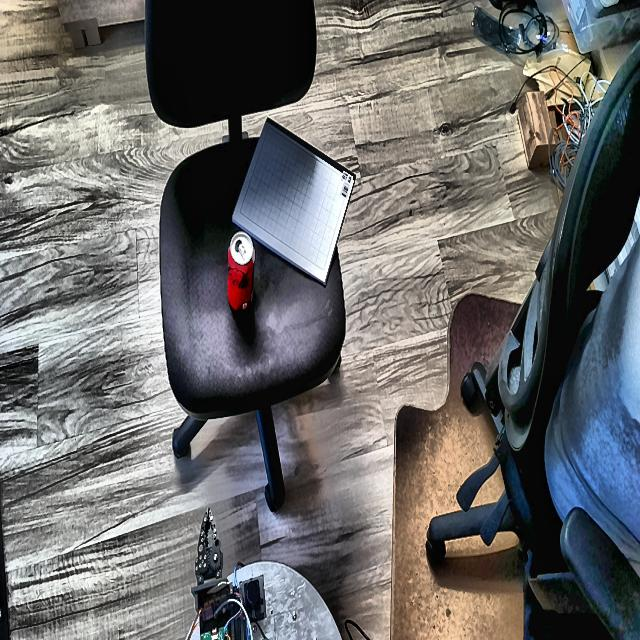Can: (228, 232, 254, 311)
